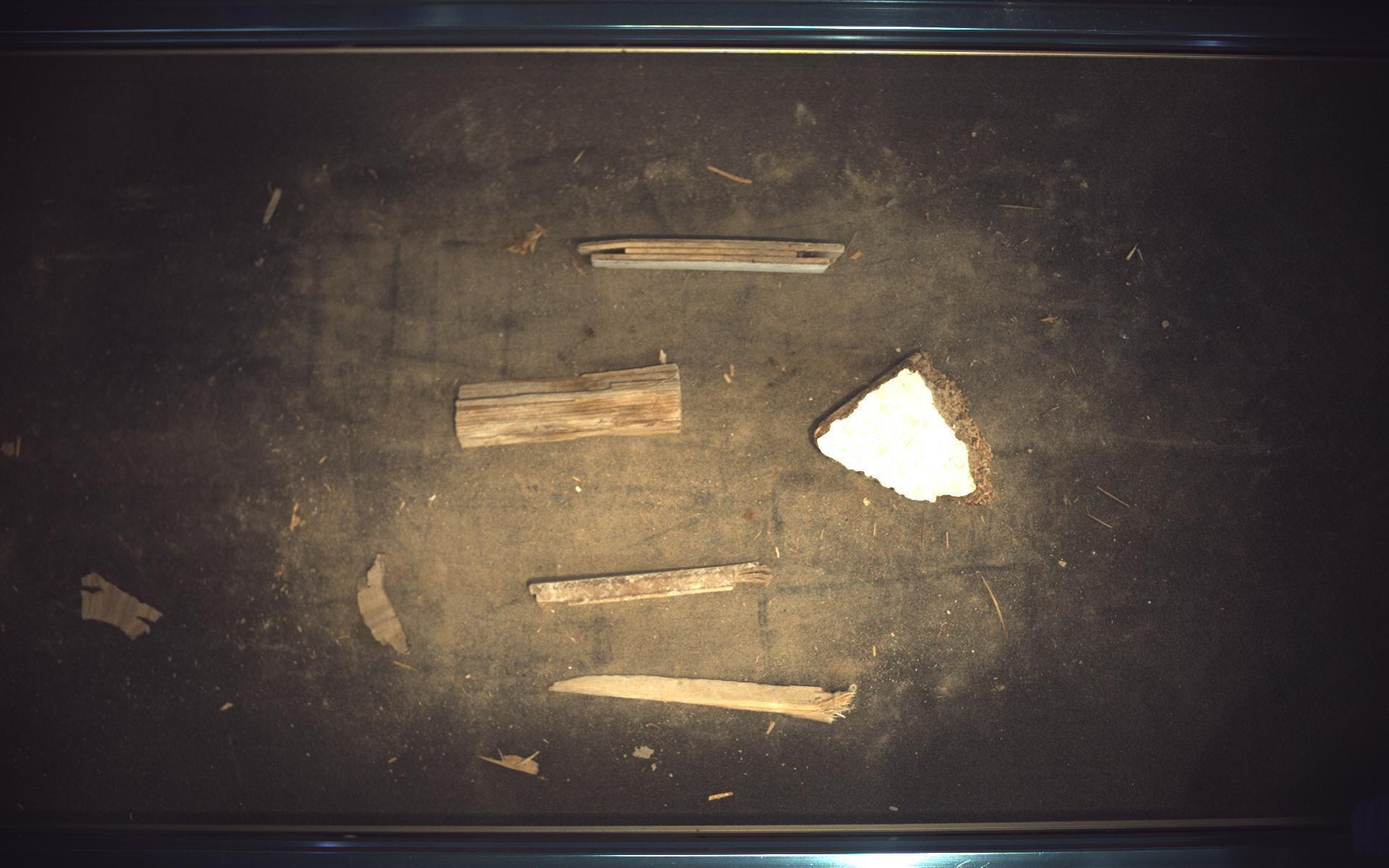wood: (815, 352, 996, 506), (456, 362, 682, 448), (551, 676, 857, 724), (530, 562, 773, 606), (576, 236, 846, 273)
